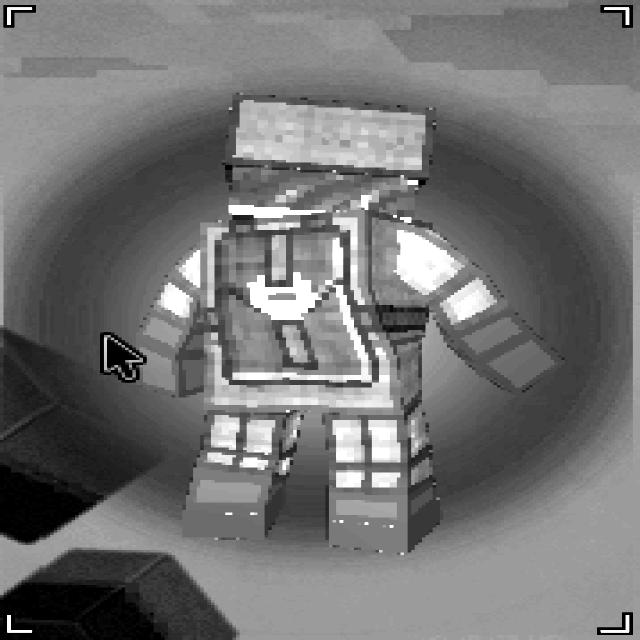Head: (225, 90, 434, 224)
Player: (96, 90, 565, 552)
